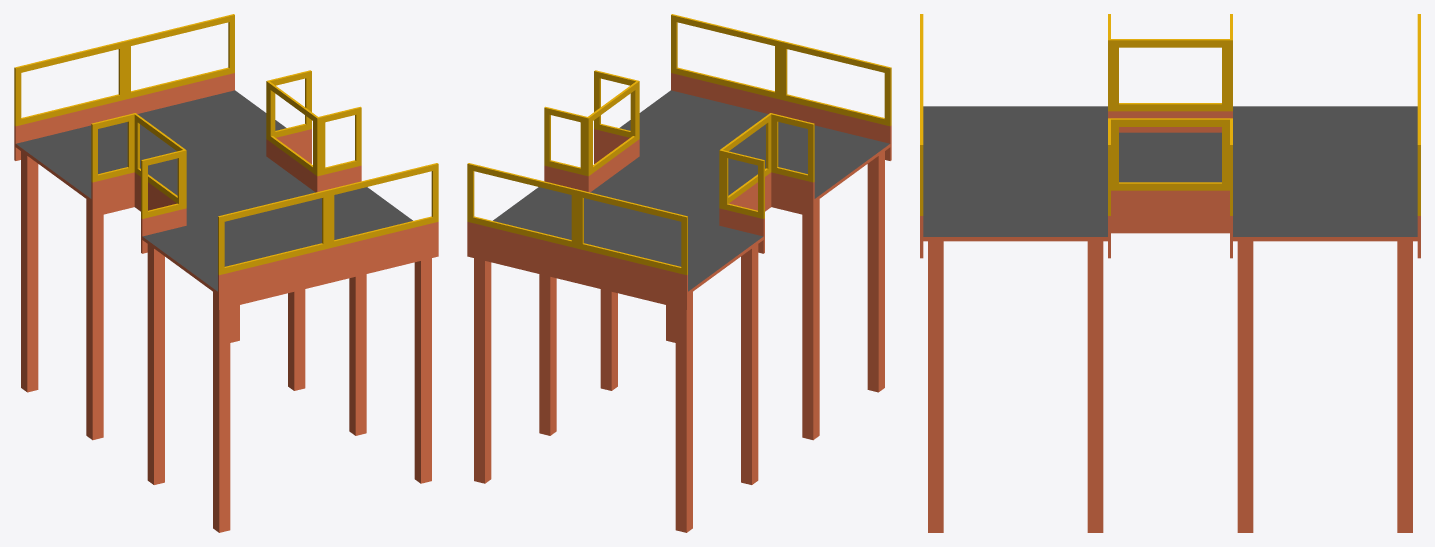
Rendered from Prop_Industrial_Platform_Walkway_Narrow_H_Joint_01.FBX.
3 renders of one model, left to right at view 1: azimuth 30°, elevation 25°; view 2: azimuth 150°, elevation 25°; view 3: azimuth 270°, elevation 25°, orthographic. The views are drawn at different scales.
Visible parts, largest first — view 1: Prop_Industrial_Platform_Walkway_Narrow_H_Joint_01; view 2: Prop_Industrial_Platform_Walkway_Narrow_H_Joint_01; view 3: Prop_Industrial_Platform_Walkway_Narrow_H_Joint_01.
Part boxes in pixels (x1,y1,x2,y2): Prop_Industrial_Platform_Walkway_Narrow_H_Joint_01: (14, 14, 438, 532); Prop_Industrial_Platform_Walkway_Narrow_H_Joint_01: (467, 14, 891, 532); Prop_Industrial_Platform_Walkway_Narrow_H_Joint_01: (920, 14, 1420, 532).
Size of the model in its own units: 3960 by 5500 by 6400.
